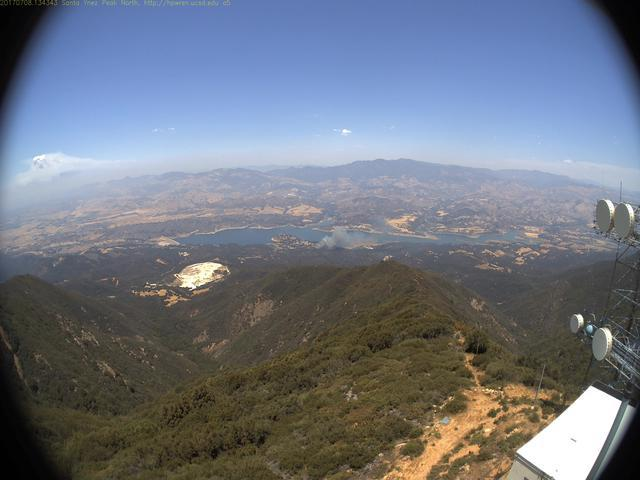smoke: (309, 221, 373, 253)
